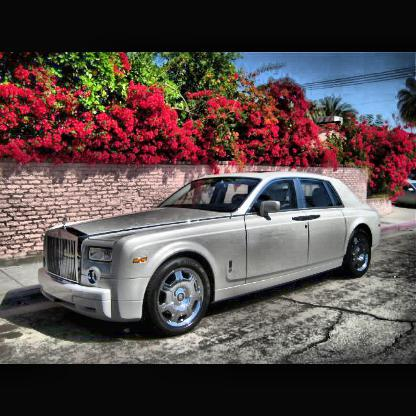Rolls-Royce Phantom Sedan 2012: (40, 173, 382, 337)
